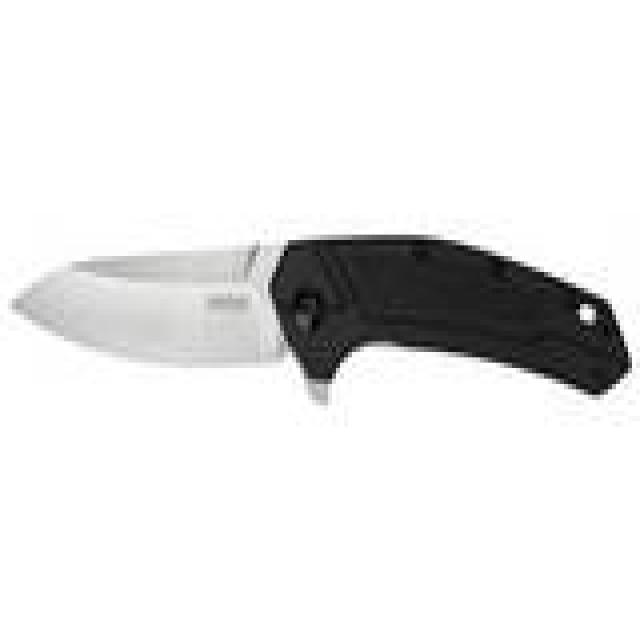Knife: (10, 208, 633, 418)
